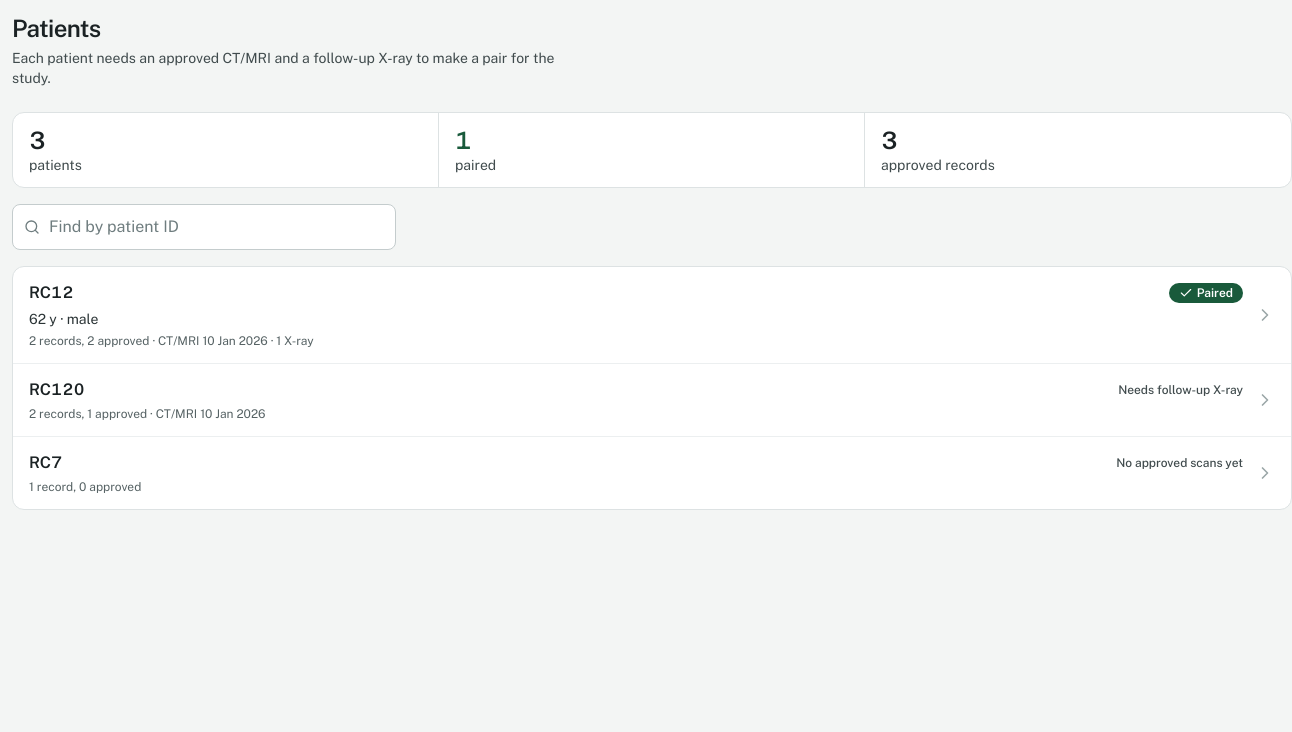
it: PatientsPage › finds a patient by a loosely typed ID
This screenshot has width=1292, height=732.
Check: the link "RC120" is shown, box [29,380,1275,421]
Type "rc 12" into the field named "Find a patient". click: (204, 227)
box: [12,204,396,250]
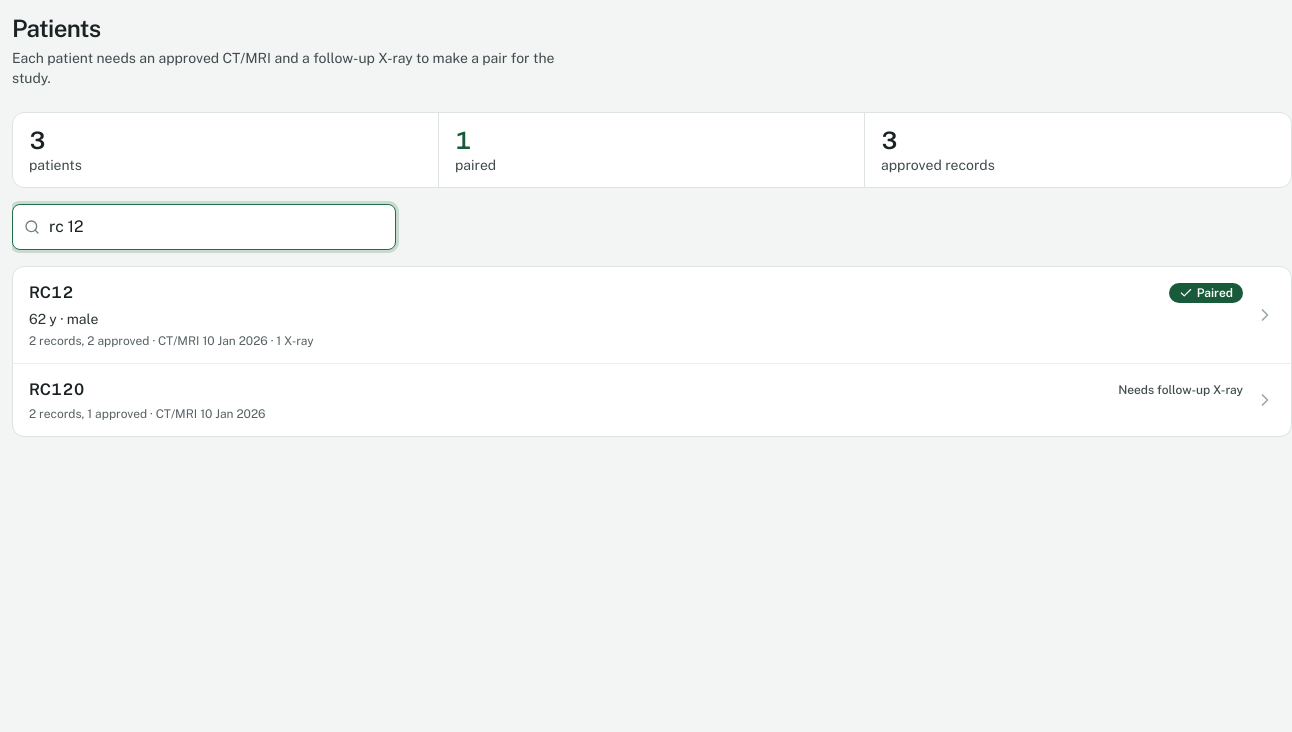
Check: the 1st link is shown, box [13,267,1291,363]
Check: the link "RC7" is gone
